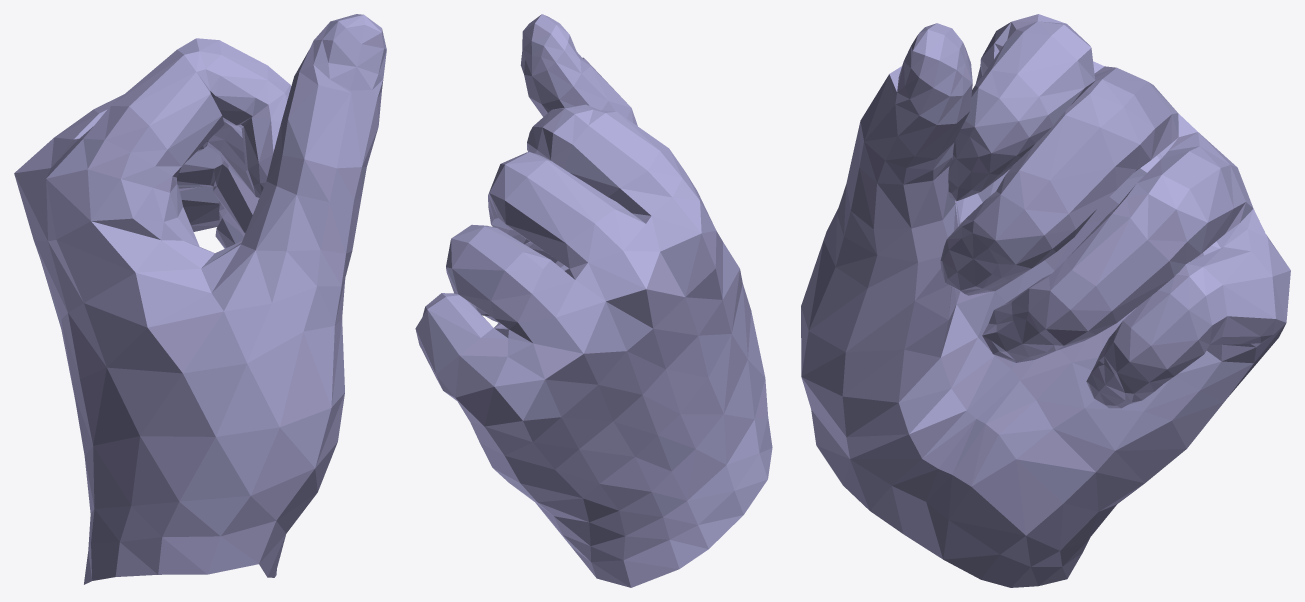
The model's file is frame_0016_source_000016_hand.glb.
The picture shows the model from 3 angles, left to right: view 1: azimuth 30°, elevation 25°; view 2: azimuth 150°, elevation 25°; view 3: azimuth 270°, elevation 25°; orthographic projection. The views are drawn at different scales.
Parts seen in each view (by area): view 1: world; view 2: world; view 3: world.
Part boxes in pixels (bbox=[...]): world: bbox=[14, 14, 386, 584]; world: bbox=[415, 14, 772, 587]; world: bbox=[801, 14, 1290, 587].
Bounding box in the file's own units: 0.0622 × 0.1254 × 0.0903.
